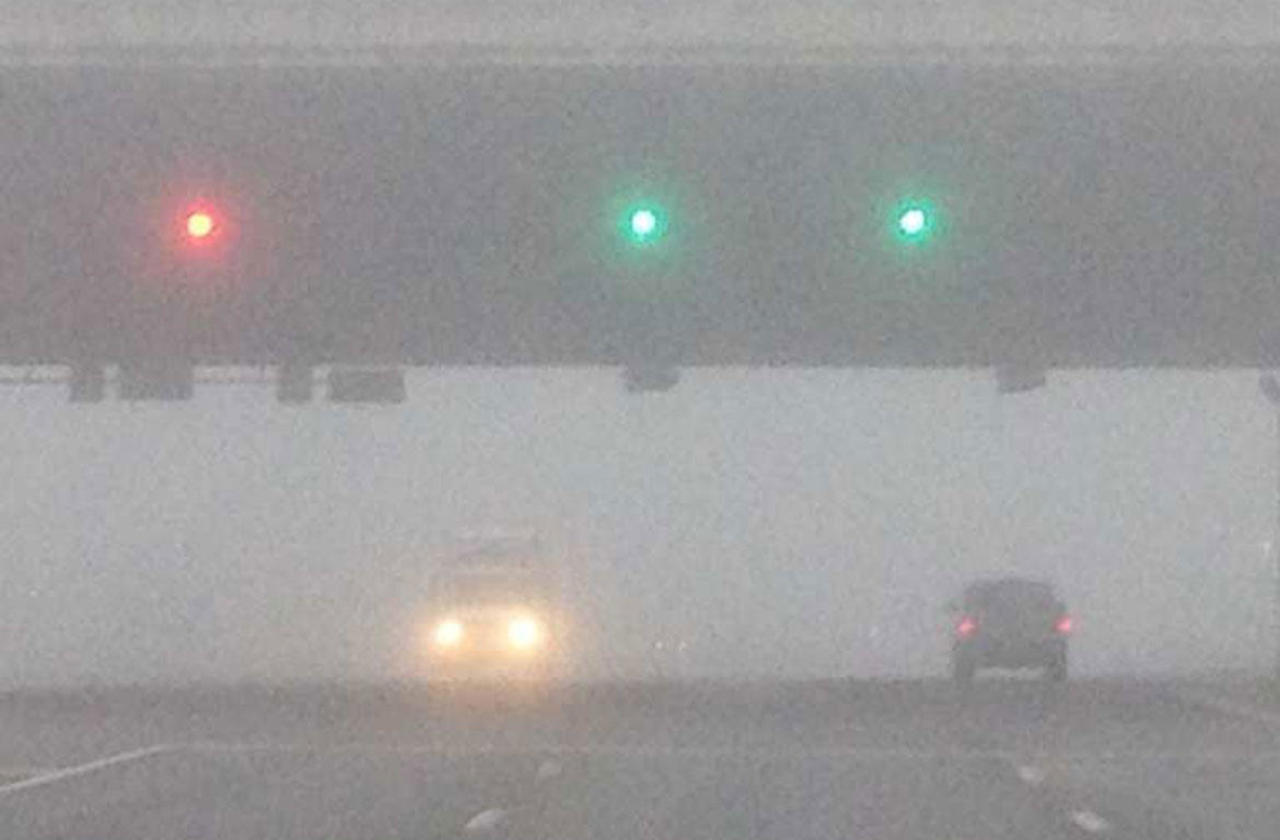car: (940, 573, 1074, 691)
truck: (426, 523, 586, 677)
